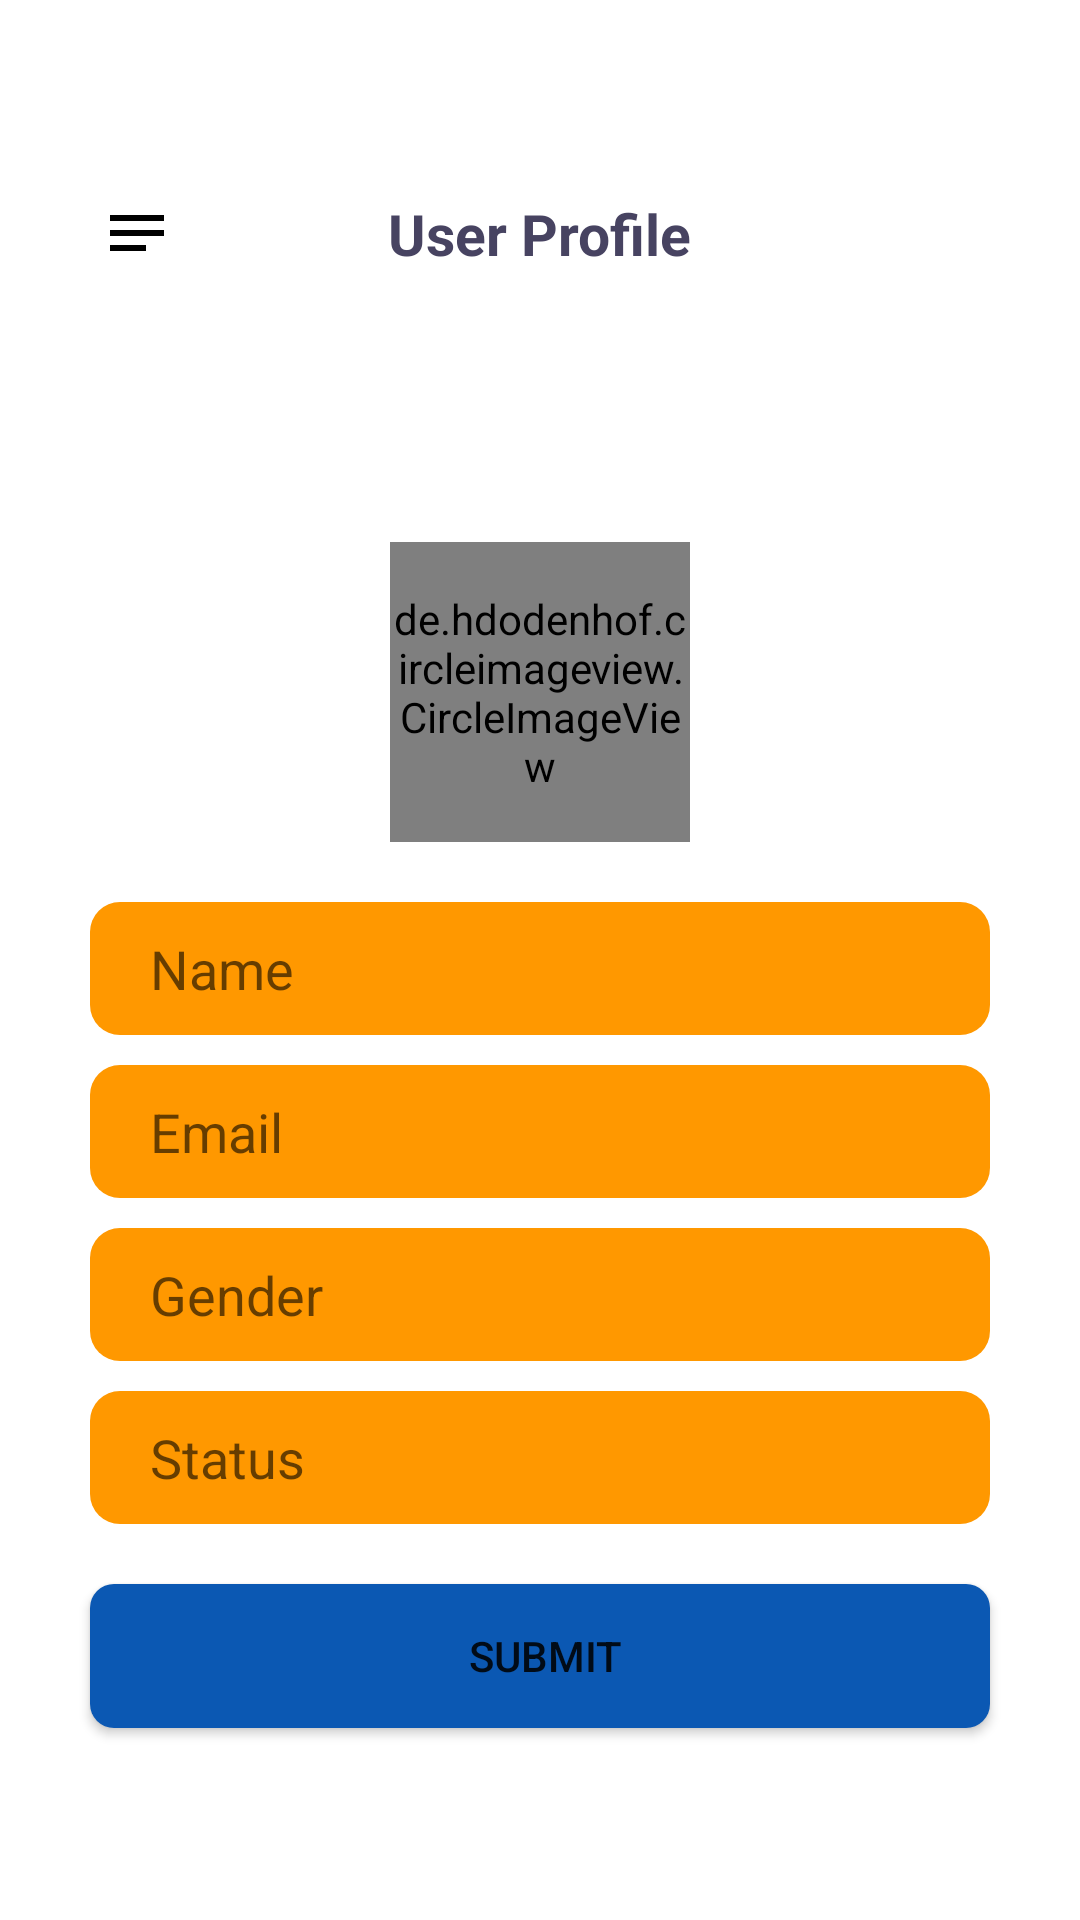

Where to tap for icons on this 1080px×1920px app screen, as point (x, y):
notes: point (137, 233)
